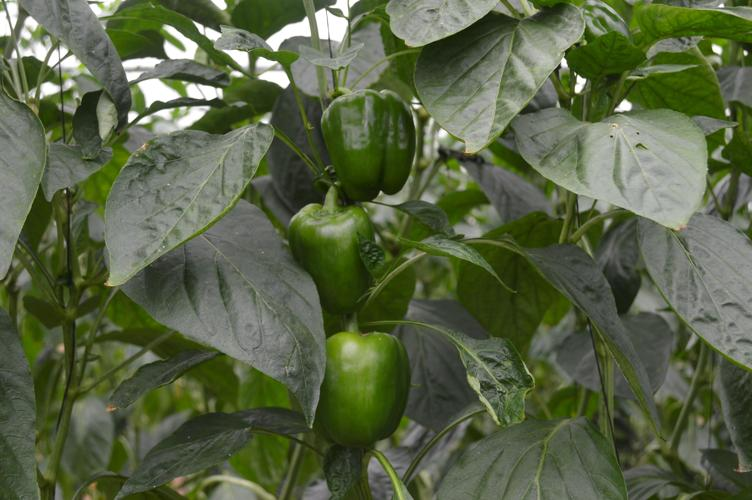BellPepper: (312, 328, 408, 443), (319, 93, 416, 198), (283, 204, 376, 313)
